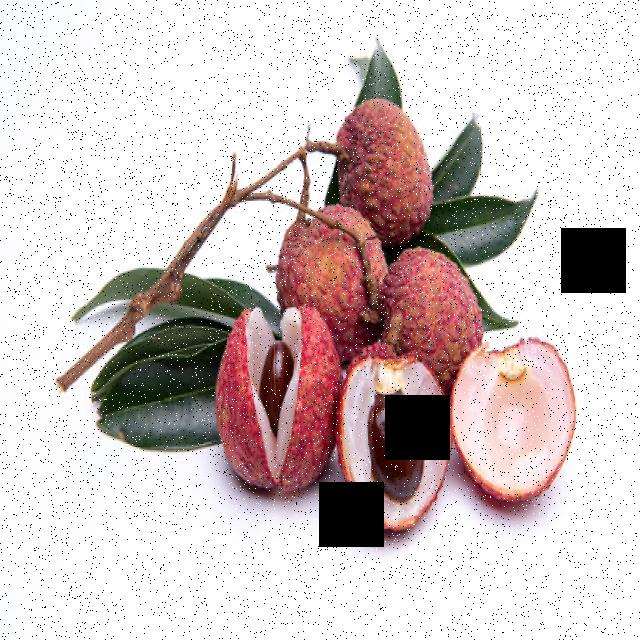lychee: (232, 266, 583, 554)
